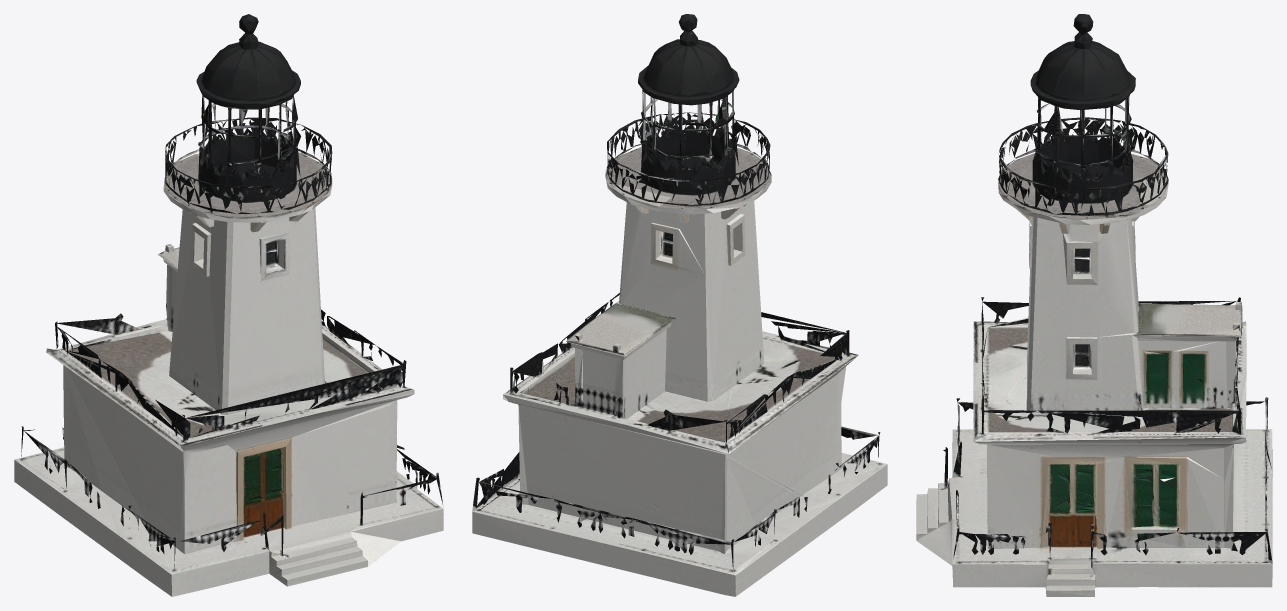
Rendered from phare_mamelles.glb.
The picture shows the model from 3 angles, left to right: view 1: azimuth 30°, elevation 25°; view 2: azimuth 150°, elevation 25°; view 3: azimuth 270°, elevation 25°; orthographic projection. The views are drawn at different scales.
Visible parts, largest first — view 1: landmark; view 2: landmark; view 3: landmark.
Boxes of the visible parts, x1,y1,x2,y2 form: landmark: [14, 14, 443, 596]; landmark: [472, 14, 887, 596]; landmark: [916, 14, 1272, 596].
Bounding box in the file's own units: 1.13 × 1.85 × 1.18.
1 material, 1 textured.
